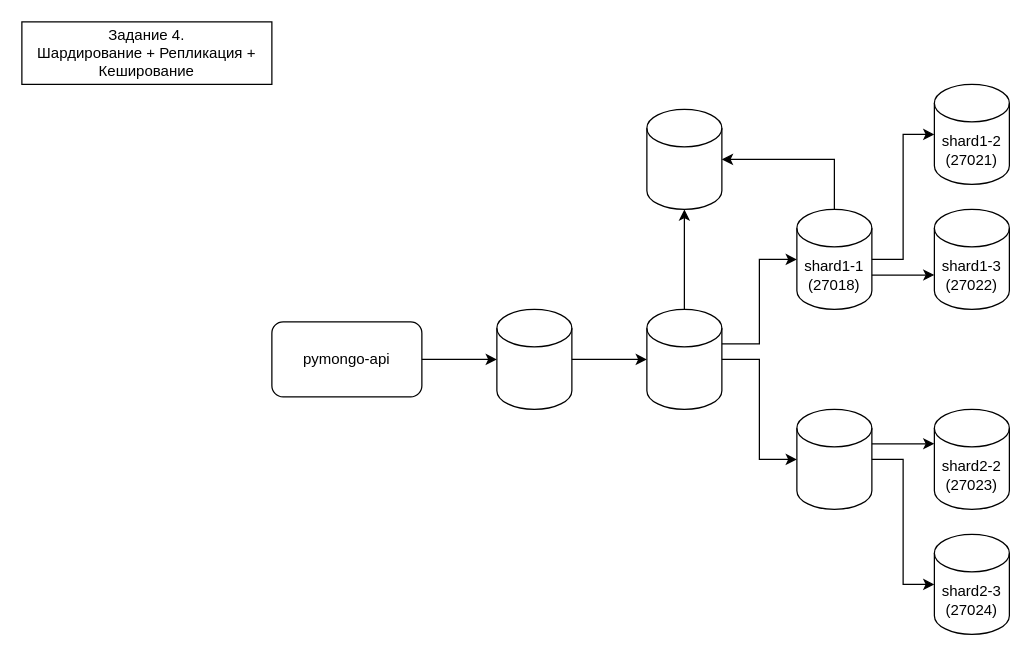
Image size: 1031x656. Some labels were removed from this diagram. The centre of each missing label's shape, as x and y in pixels:
"configSrv ( 27017)" goes at [684,158].
"mongos-router (27020)" goes at [684,358].
"redis" goes at [534,358].
"shard2-1 (27019)" goes at [834,458].
